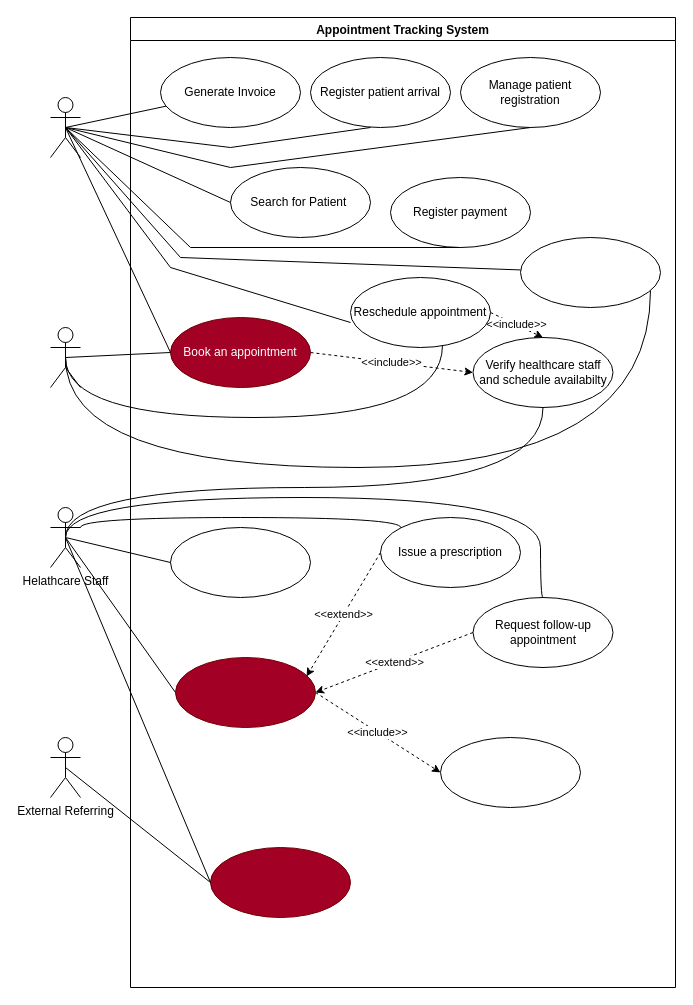
This 693x1005 diagram has some shape labels left out. The box of each missing label's shape, as (x1, y1, x2, y2) in pixels:
Admin Staff: (50, 96, 80, 158)
Cancel appointment: (520, 236, 660, 308)
Patients: (50, 326, 80, 388)
Process a medical referral: (210, 846, 350, 918)
Record a consultation: (174, 656, 316, 728)
Record Clinical Information: (440, 736, 580, 808)
View Clinical Record: (170, 526, 310, 598)
